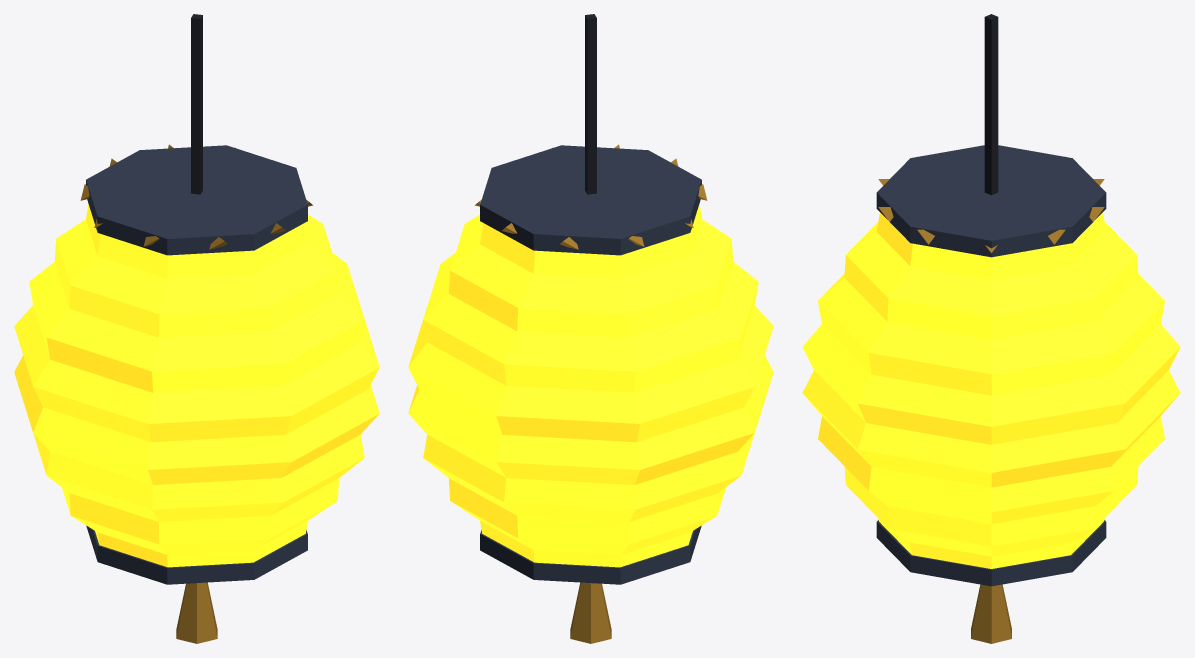
File: bw_targ_paper_lantern_amber.glb
3 renders of one model, left to right at view 1: azimuth 30°, elevation 25°; view 2: azimuth 150°, elevation 25°; view 3: azimuth 270°, elevation 25°, orthographic.
Parts seen in each view (by area): view 1: binding.002, binding.001, binding.003, binding; view 2: binding.002, binding.001, binding.003, binding; view 3: binding.002, binding.001, binding, binding.003.
Part boxes in pixels (x1,y1,x2,y2): binding.002: (14,204,379,567); binding.001: (86,145,307,584); binding.003: (80,144,312,643); binding: (191,14,202,194); binding.002: (408,204,773,567); binding.001: (480,145,701,584); binding.003: (475,144,707,643); binding: (585,14,596,194); binding.002: (802,212,1180,568); binding.001: (876,145,1106,586); binding: (984,14,998,195); binding.003: (878,156,1104,643).
Size of the model in its own units: 0.5 by 0.9 by 0.5.
